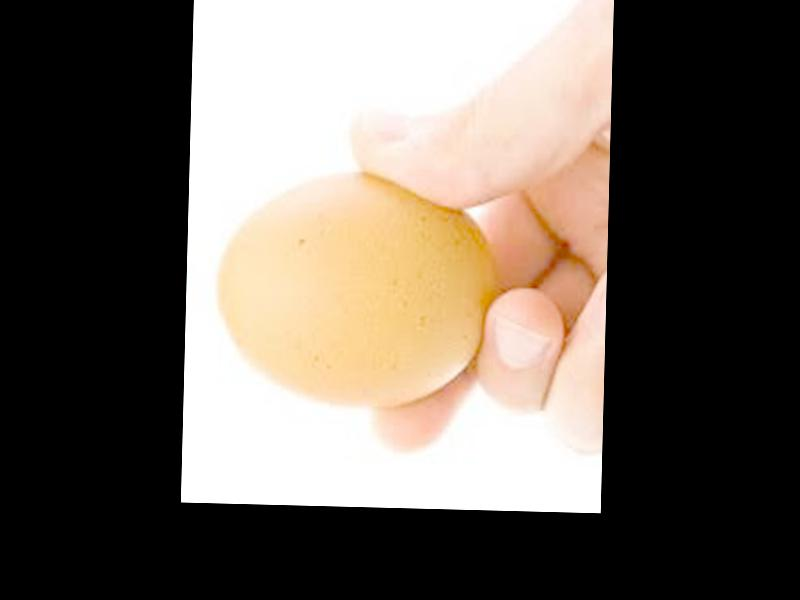Eggs: (212, 168, 492, 411)
